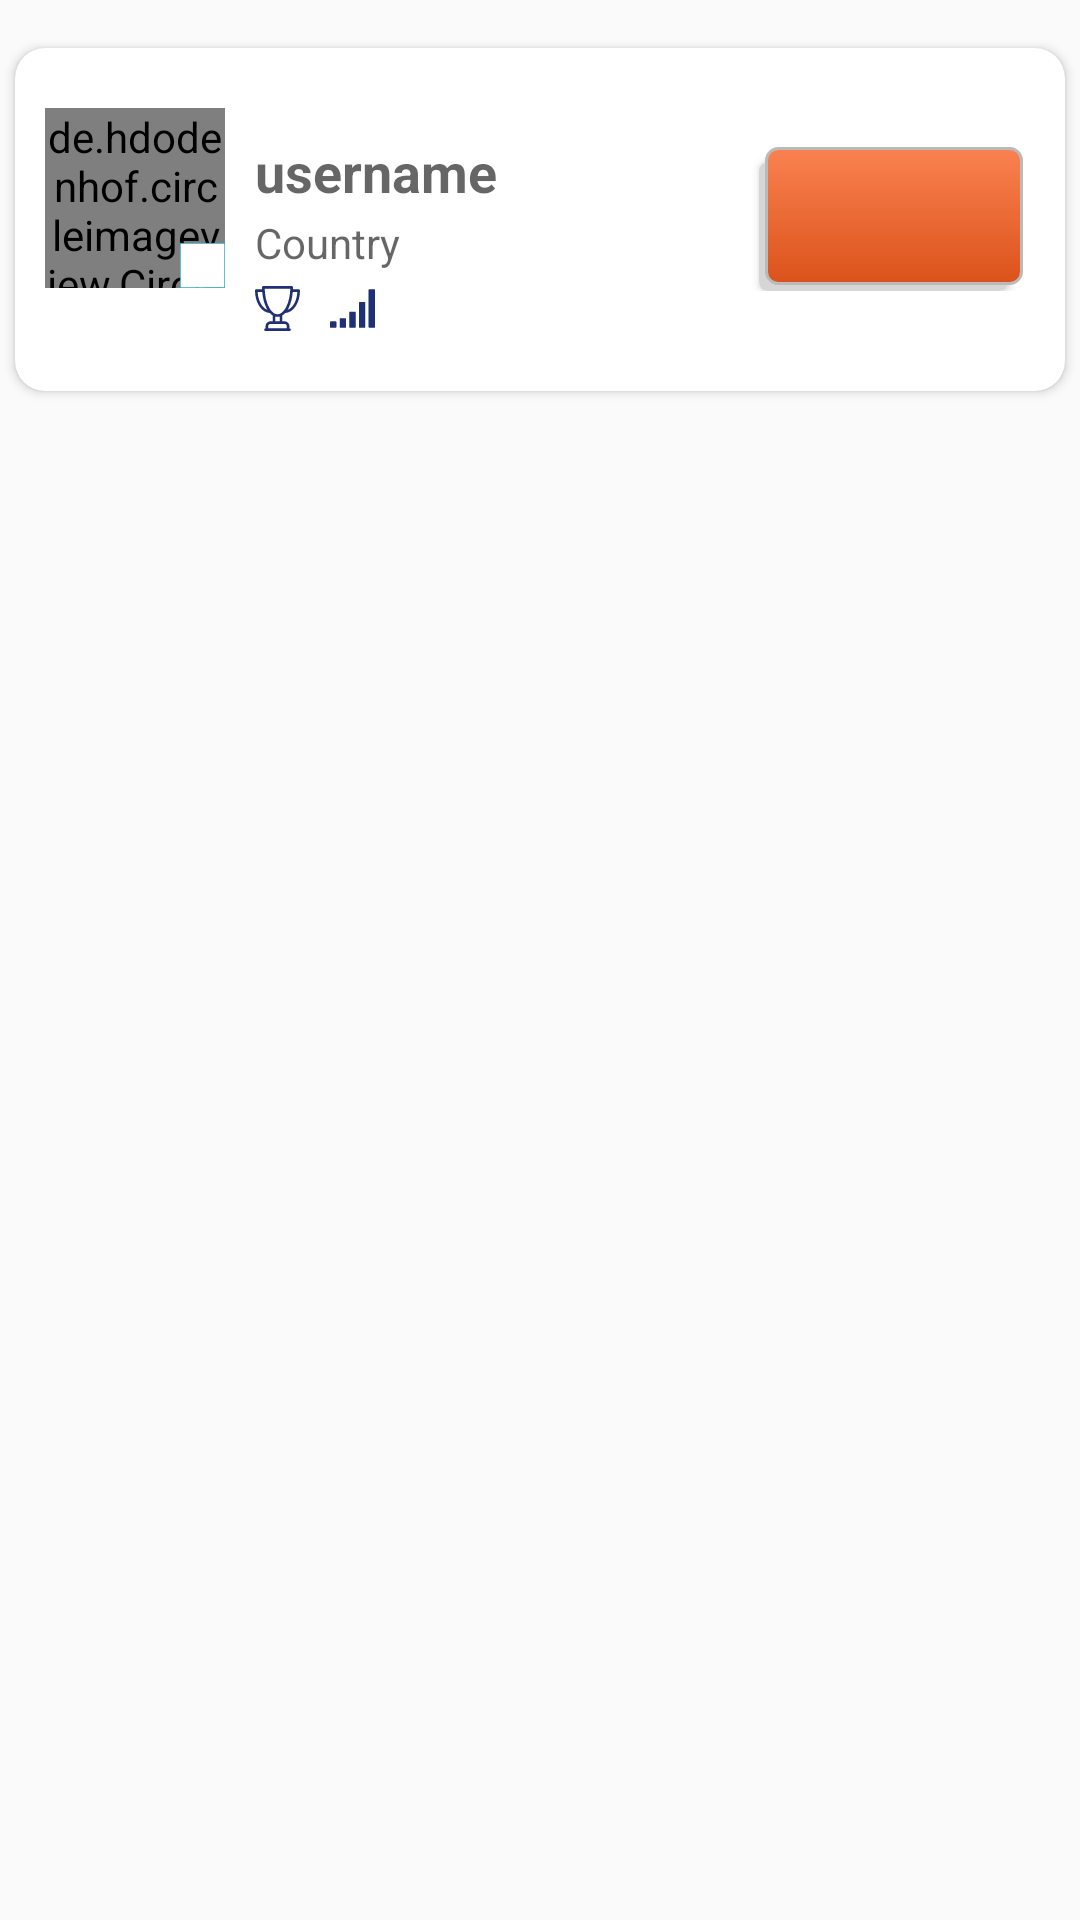

Icons on this 1080w x 1920h Android screen, each with the point to tap as point (x, y):
signal: point (352, 308)
trophy: point (277, 308)
